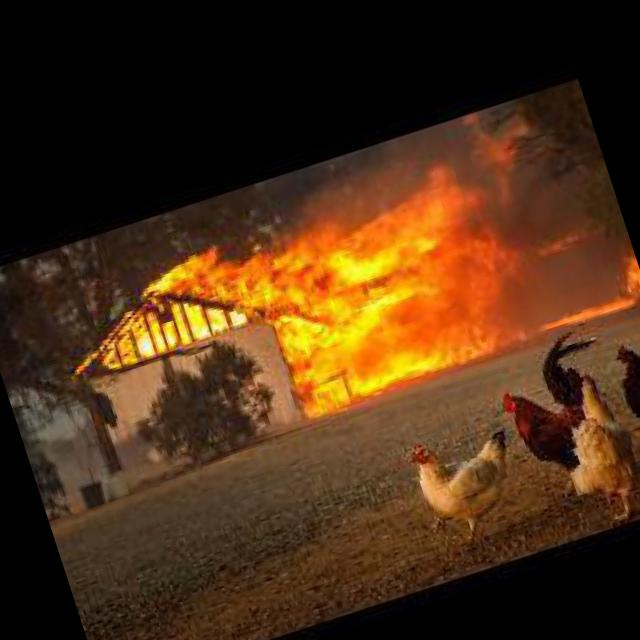fire: (24, 128, 537, 489), (606, 235, 640, 310)
